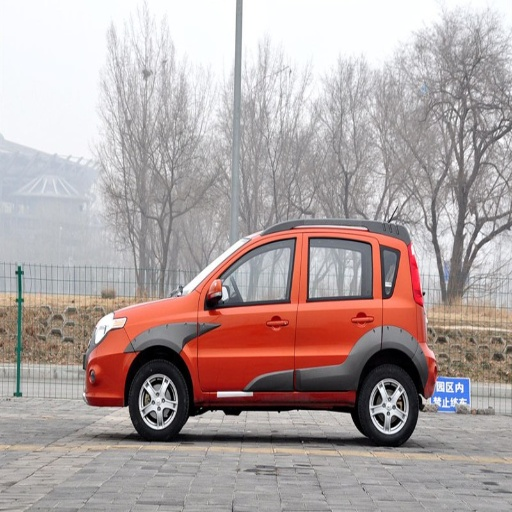back_left_door: (295, 232, 380, 390)
front_left_door: (197, 233, 301, 392)
